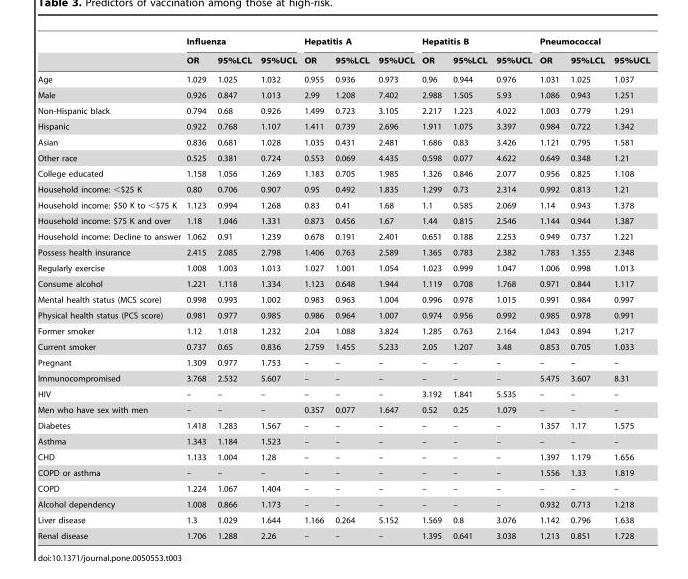table: (36, 36, 649, 540)
table column: (36, 36, 182, 540), (328, 36, 373, 540), (446, 36, 491, 540), (211, 36, 255, 540), (255, 36, 299, 540), (373, 36, 417, 540), (491, 36, 535, 540), (564, 36, 608, 540), (608, 36, 649, 540), (182, 36, 211, 540), (299, 36, 328, 540), (417, 36, 446, 540), (535, 36, 564, 540)
table column header: (36, 36, 649, 69)
table row: (36, 50, 649, 69), (36, 69, 649, 87), (36, 102, 649, 118), (36, 118, 649, 134), (36, 134, 649, 150), (36, 165, 649, 181), (36, 181, 649, 197), (36, 212, 649, 228), (36, 228, 649, 244), (36, 244, 649, 260), (36, 275, 649, 291), (36, 291, 649, 307), (36, 307, 649, 323), (36, 338, 649, 354), (36, 354, 649, 370), (36, 370, 649, 386), (36, 401, 649, 417), (36, 417, 649, 433), (36, 433, 649, 449), (36, 464, 649, 480), (36, 480, 649, 496), (36, 496, 649, 512), (36, 87, 649, 102), (36, 150, 649, 165), (36, 197, 649, 212), (36, 260, 649, 275), (36, 323, 649, 338), (36, 386, 649, 401), (36, 449, 649, 464), (36, 512, 649, 527), (36, 36, 649, 50), (36, 527, 649, 540)
table spanning cell: (299, 36, 417, 50), (417, 36, 535, 50), (182, 36, 299, 50), (535, 36, 649, 50)
